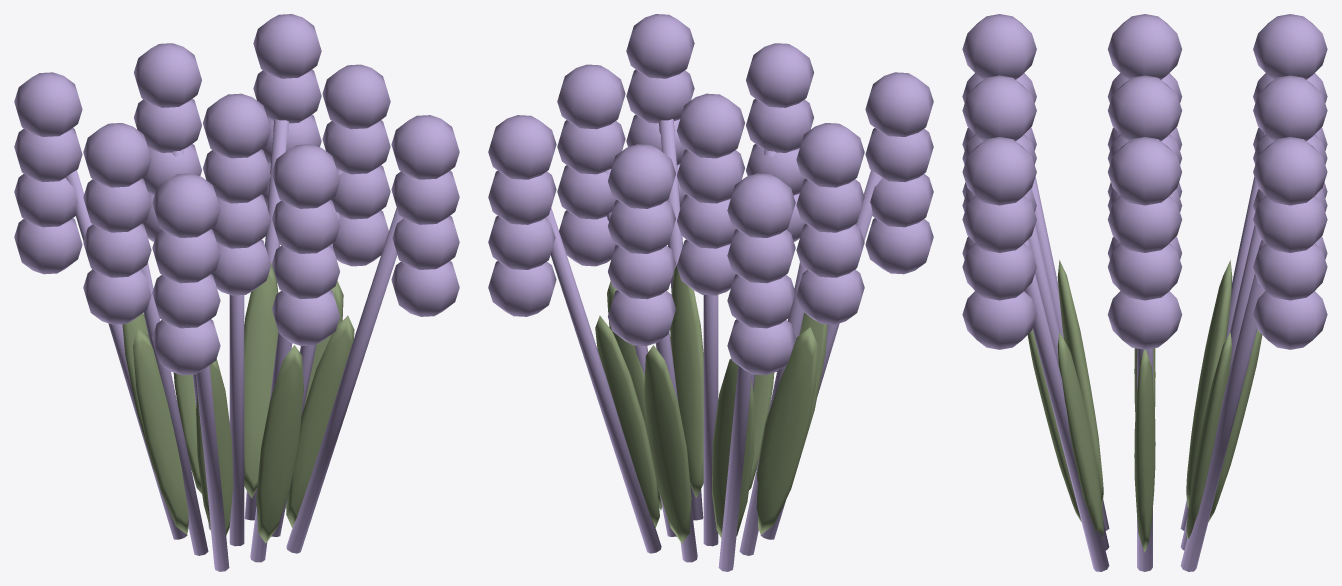
File: flowers_02.glb
3 renders of one model, left to right at view 1: azimuth 30°, elevation 25°; view 2: azimuth 150°, elevation 25°; view 3: azimuth 270°, elevation 25°, orthographic. The views are drawn at different scales.
Visible parts, largest first — view 1: Tint, Narrow leaf, Narrow leaf.003, Narrow leaf.006, Narrow leaf.001, Narrow leaf.007, Narrow leaf.004, Narrow leaf.005, Narrow leaf.002; view 2: Tint, Narrow leaf.006, Narrow leaf.004, Narrow leaf.001, Narrow leaf.003, Narrow leaf.005, Narrow leaf, Narrow leaf.002, Narrow leaf.007; view 3: Tint, Narrow leaf.001, Narrow leaf.002, Narrow leaf.005, Narrow leaf.003, Narrow leaf.007, Narrow leaf, Narrow leaf.004.
Boxes of the visible parts, left/top/right/bottom form: Tint: left=14, top=14, right=459, bottom=571; Narrow leaf: left=256, top=345, right=303, bottom=543; Narrow leaf.003: left=244, top=261, right=278, bottom=498; Narrow leaf.006: left=133, top=327, right=188, bottom=534; Narrow leaf.001: left=286, top=315, right=354, bottom=527; Narrow leaf.007: left=196, top=359, right=233, bottom=535; Narrow leaf.004: left=173, top=373, right=201, bottom=493; Narrow leaf.005: left=122, top=313, right=155, bottom=473; Narrow leaf.002: left=285, top=281, right=343, bottom=509; Tint: left=488, top=14, right=933, bottom=571; Narrow leaf.006: left=756, top=327, right=817, bottom=534; Narrow leaf.004: left=644, top=345, right=691, bottom=543; Narrow leaf.001: left=670, top=263, right=703, bottom=497; Narrow leaf.003: left=595, top=315, right=659, bottom=527; Narrow leaf.005: left=712, top=358, right=754, bottom=538; Narrow leaf: left=749, top=373, right=774, bottom=489; Narrow leaf.002: left=607, top=281, right=661, bottom=510; Narrow leaf.007: left=799, top=313, right=827, bottom=436; Tint: left=962, top=14, right=1327, bottom=571; Narrow leaf.001: left=1057, top=332, right=1103, bottom=538; Narrow leaf.002: left=1134, top=349, right=1155, bottom=552; Narrow leaf.005: left=1186, top=260, right=1232, bottom=507; Narrow leaf.003: left=1186, top=332, right=1232, bottom=538; Narrow leaf.007: left=1057, top=260, right=1103, bottom=506; Narrow leaf: left=1027, top=329, right=1081, bottom=521; Narrow leaf.004: left=1208, top=329, right=1262, bottom=521.
Size of the model in its own units: 0.3157 by 0.45 by 0.3157.
